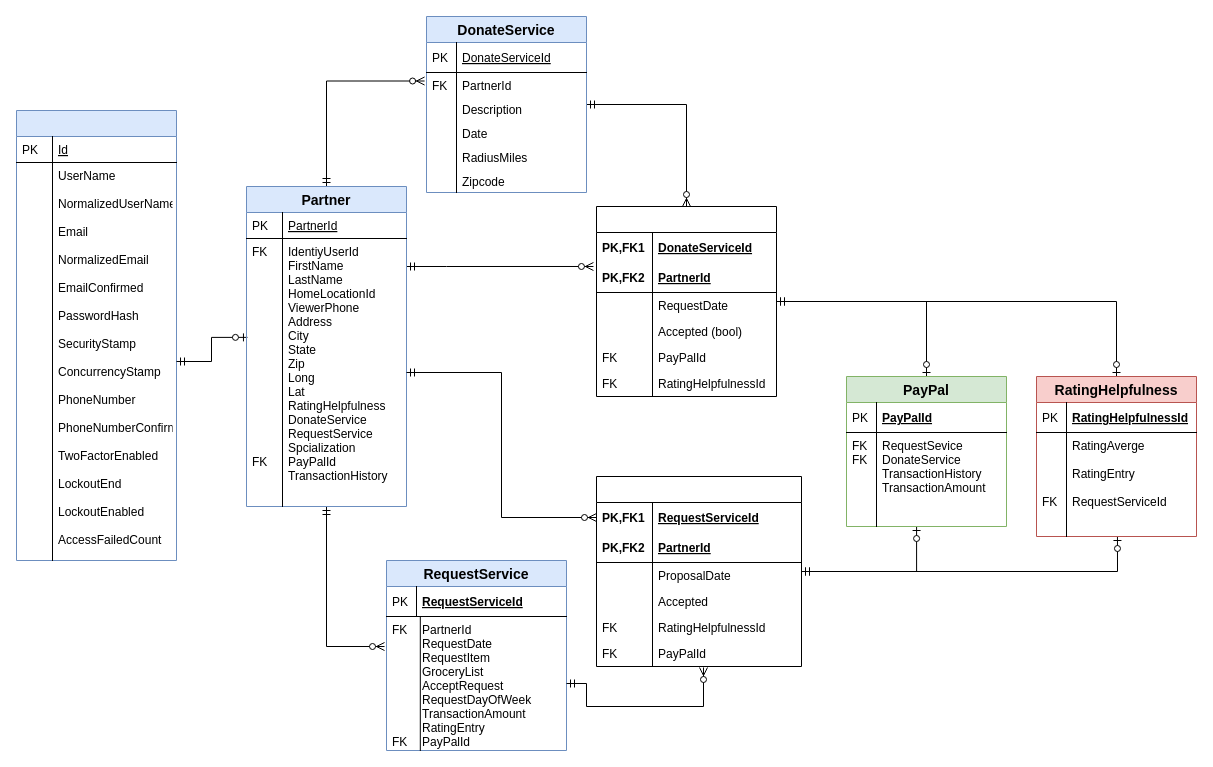
Image size: 1213x767. Some labels were removed from this diagram. The shapes that lost their labels are listed below. From the top down, each one's box as (x1, y1, x2, y2) in pixels, then its label:
(596, 206, 776, 396): DonateServicePartners
(16, 110, 176, 560): AspNetUsers
(596, 476, 802, 666): RequestServicePartners
